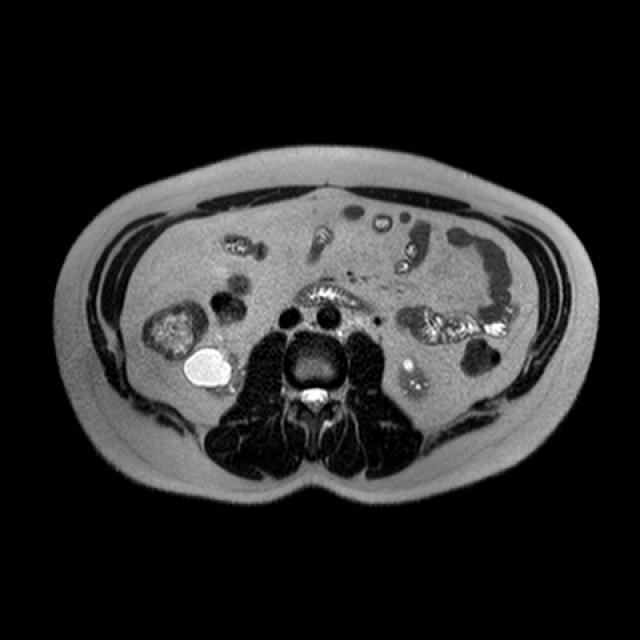sag: (183, 343, 242, 399)
sol: (397, 351, 433, 399)
